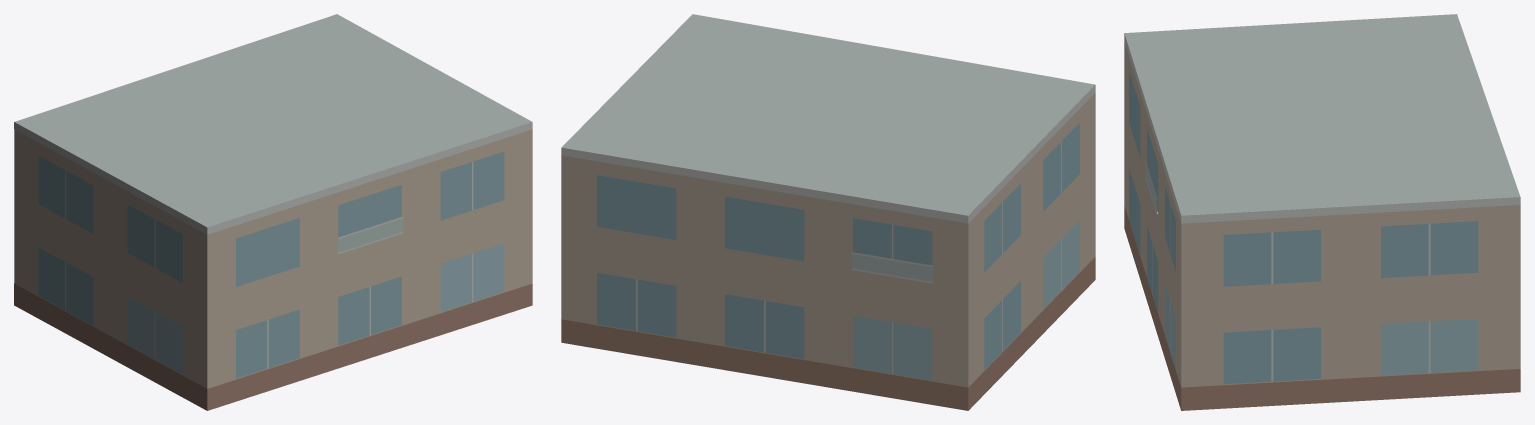
Rendered from survey-upis-33038369.glb.
3 views of the same model, side by side, from view 1: azimuth 30°, elevation 25°; view 2: azimuth 150°, elevation 25°; view 3: azimuth 270°, elevation 25° (orthographic). The views are drawn at different scales.
Parts seen in each view (by area): view 1: survey-upis-33038369.tmp; view 2: survey-upis-33038369.tmp; view 3: survey-upis-33038369.tmp.
Boxes of the visible parts, bbox=[...] form: survey-upis-33038369.tmp: bbox=[14, 14, 532, 410]; survey-upis-33038369.tmp: bbox=[561, 14, 1095, 410]; survey-upis-33038369.tmp: bbox=[1124, 14, 1520, 410].
Size of the model in its own units: 13.54 by 6.1 by 11.24.
